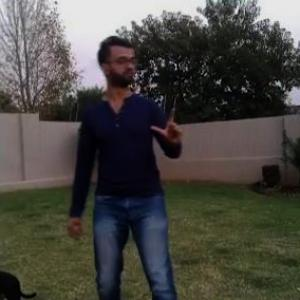land_hand: (146, 98, 186, 151)
